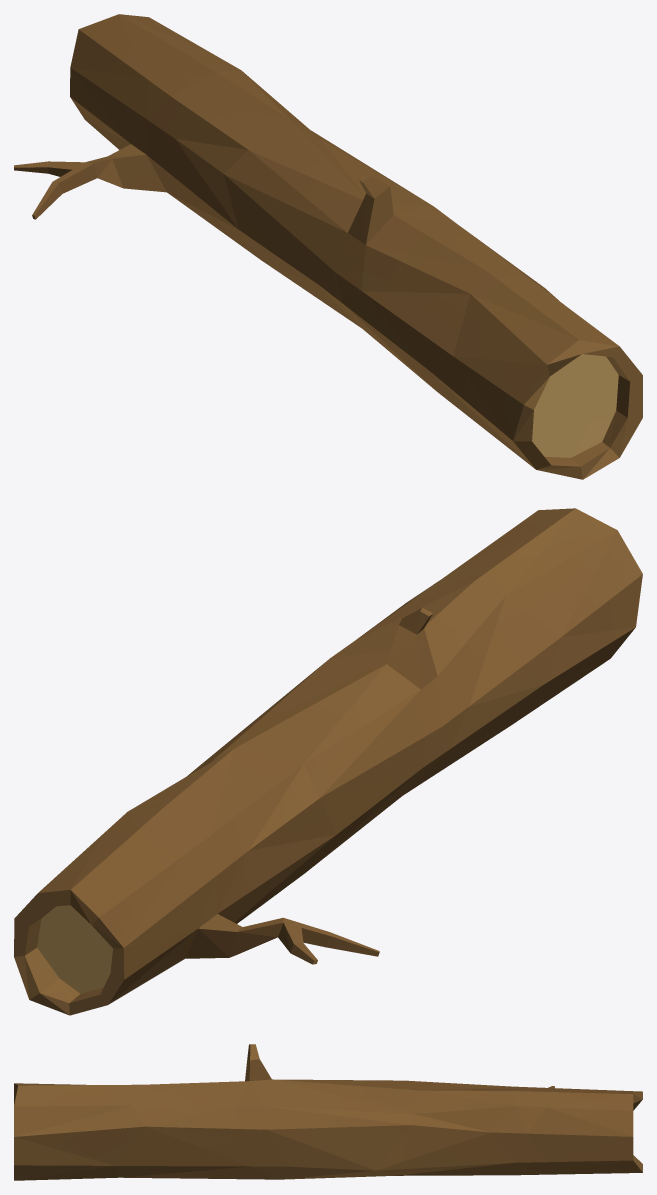
Rendered from log_1.obj.
3 renders of one model, top to bottom at view 1: azimuth 30°, elevation 25°; view 2: azimuth 150°, elevation 25°; view 3: azimuth 270°, elevation 25°, orthographic. The views are drawn at different scales.
Parts seen in each view (by area): view 1: log_1_Material; view 2: log_1_Material; view 3: log_1_Material.
Part boxes in pixels (bbox=[...]): log_1_Material: bbox=[14, 14, 642, 479]; log_1_Material: bbox=[14, 508, 642, 1015]; log_1_Material: bbox=[14, 1044, 642, 1180].
Size of the model in its own units: 0.3231 by 0.2302 by 1.08.
